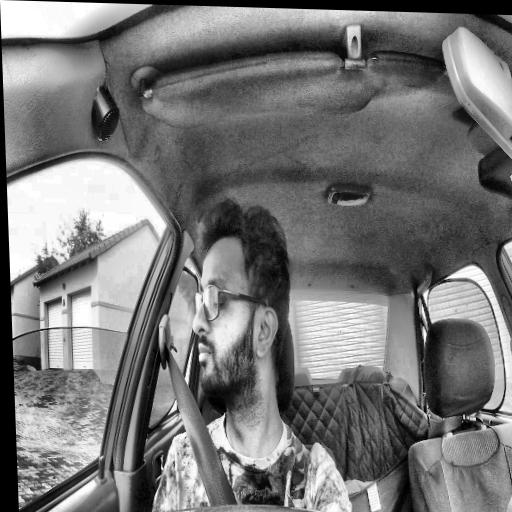drowsy: (188, 197, 296, 406)
